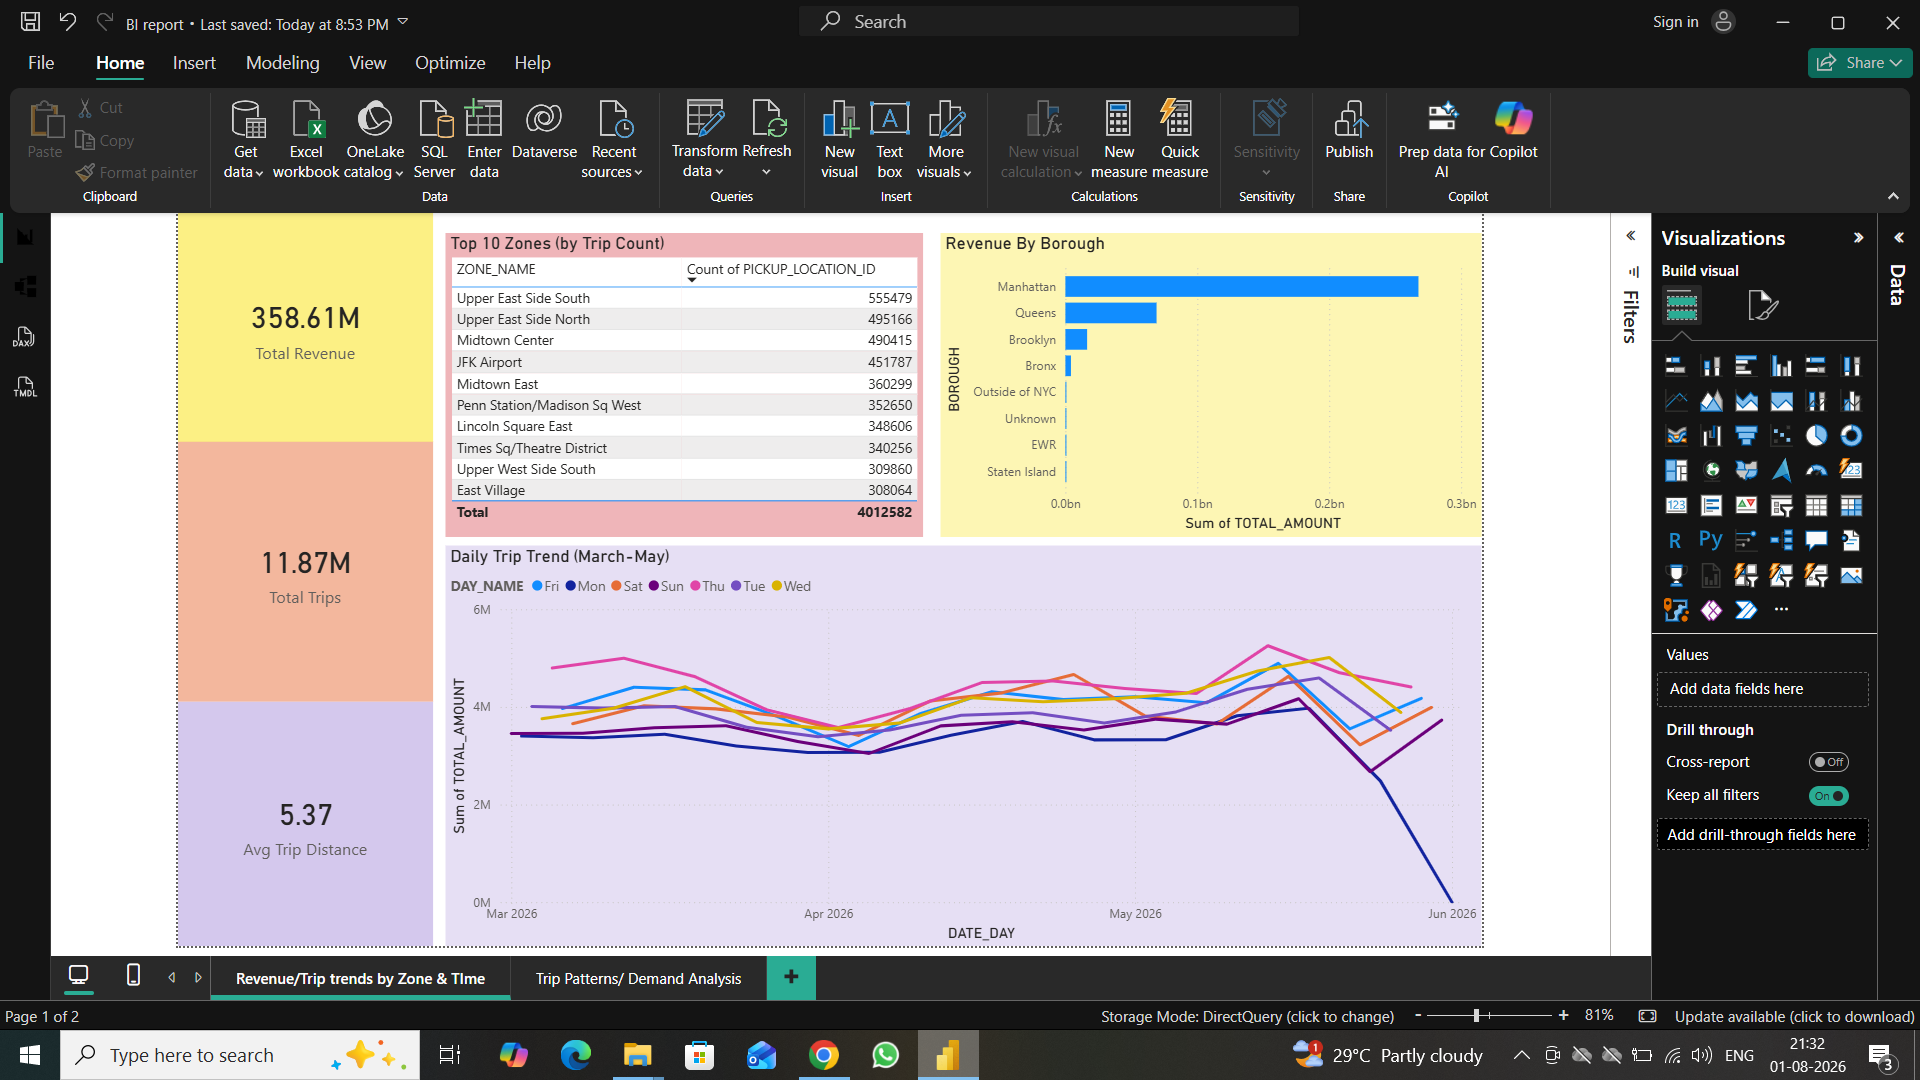

The page's visual inventory and layout, read from the dashboard file:
{"tool":"powerbi","page":{"name":"Revenue/Trip trends by Zone & TIme","canvas":[1280,720],"ordinal":0},"visuals":[{"type":"card","title":"Total Revenue","fields":{"Values":["Sum(FACT_TRIPS.TOTAL_AMOUNT)"]},"box":[0,0,250.3,224.5],"z":0},{"type":"card","fields":{"Values":["Count(FACT_TRIPS.TRIP_ID)"]},"box":[0,224.5,250.3,255.2],"z":1000},{"type":"card","fields":{"Values":["Avg(FACT_TRIPS.TRIP_DISTANCE_MILES)"]},"box":[0,479.8,250.3,240.5],"z":2000},{"type":"barChart","title":"Revenue By Borough","fields":{"Category":["DIM_ZONES.BOROUGH"],"Y":["Sum(FACT_TRIPS.TOTAL_AMOUNT)"]},"box":[748.5,19.6,531.3,298.2],"z":3000},{"type":"lineChart","title":"Daily Trip Trend (March-May)","fields":{"Category":["DIM_DATE.DATE_DAY"],"Y":["Sum(FACT_TRIPS.TOTAL_AMOUNT)"],"Series":["DIM_DATE.DAY_NAME"]},"box":[262.6,326.4,1017.2,393.9],"z":4000},{"type":"tableEx","title":"Top 10 Zones (by Trip Count)","fields":{"Values":["DIM_ZONES.ZONE_NAME","FACT_TRIPS.PICKUP_LOCATION_ID"]},"box":[262.6,19.6,468.7,298.2],"z":5000}]}

Visuals, with their boxes on the page's 1280x720 design canvas (x1, y1, x2, y2). These are canvas units, not pixel positions in the 1920x1080 screenshot, which may show the page scaled, cropped or inside an application window:
"Total Revenue" card: (0, 0, 250, 224)
card - Count(FACT_TRIPS.TRIP_ID): (0, 224, 250, 480)
card - Avg(FACT_TRIPS.TRIP_DISTANCE_MILES): (0, 480, 250, 720)
"Revenue By Borough" barChart: (748, 20, 1280, 318)
"Daily Trip Trend (March-May)" lineChart: (263, 326, 1280, 720)
"Top 10 Zones (by Trip Count)" tableEx: (263, 20, 731, 318)
